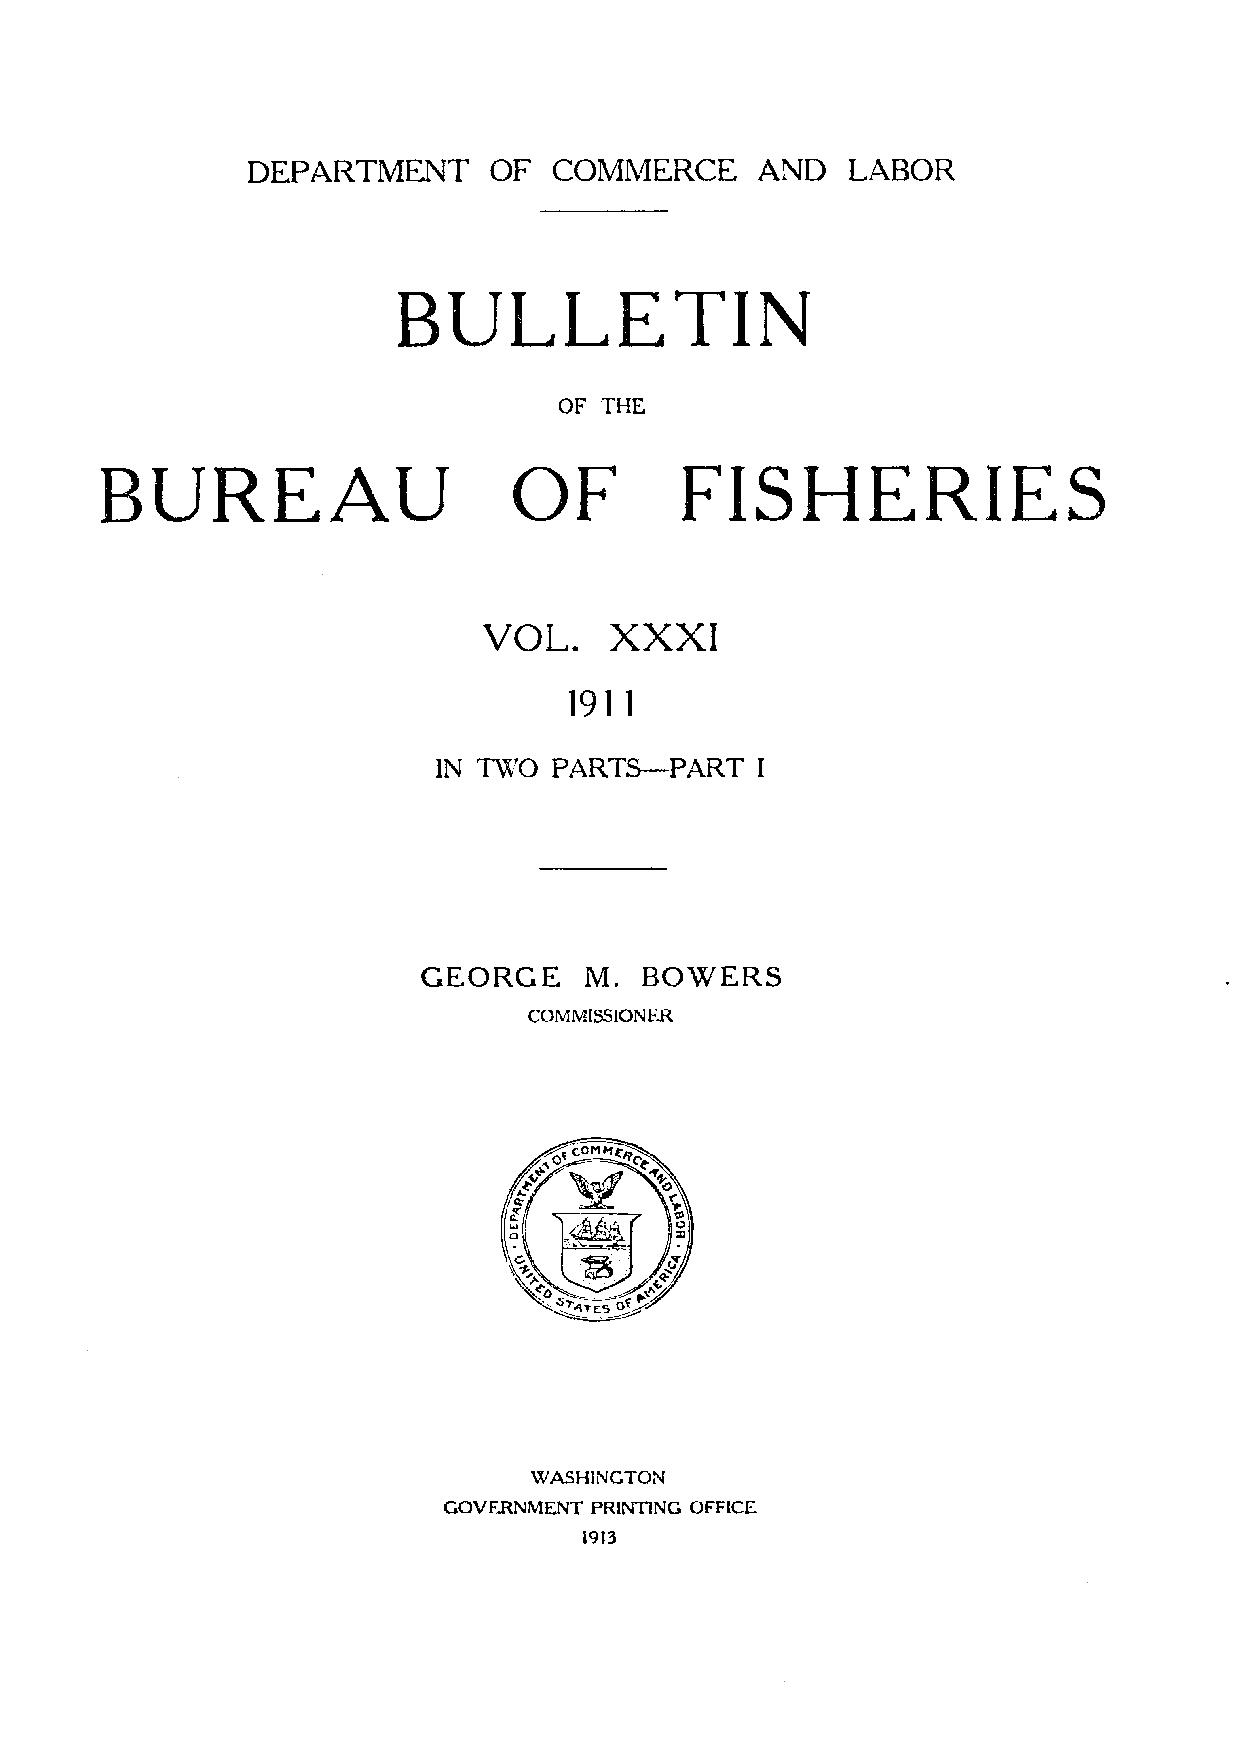author: (243, 154, 954, 187)
title: (97, 289, 1107, 526)
